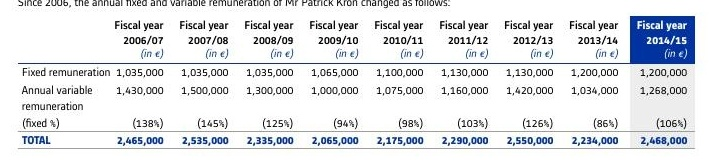table: (0, 0, 713, 166)
